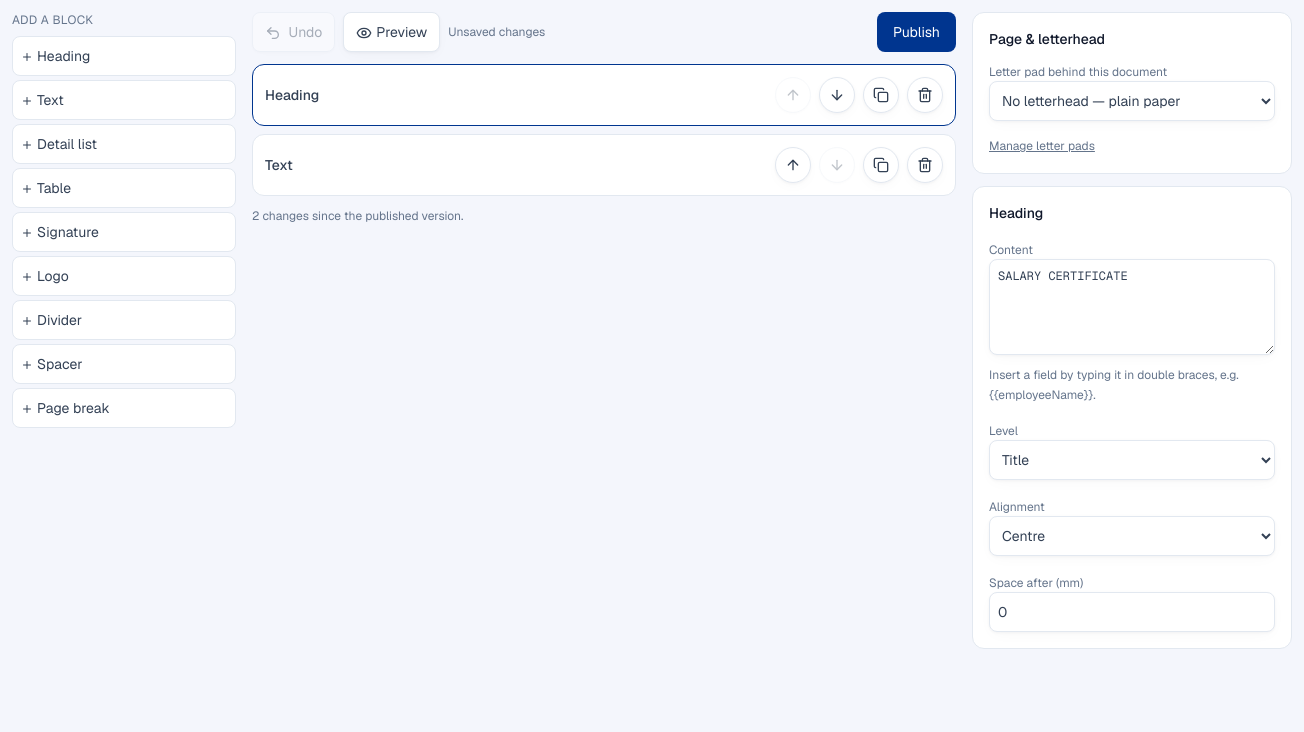
Test: TemplateBuilder › surfaces a save conflict rather than losing the edit
Click the button "Detail list" at point(124, 144), box [12,124,236,164]
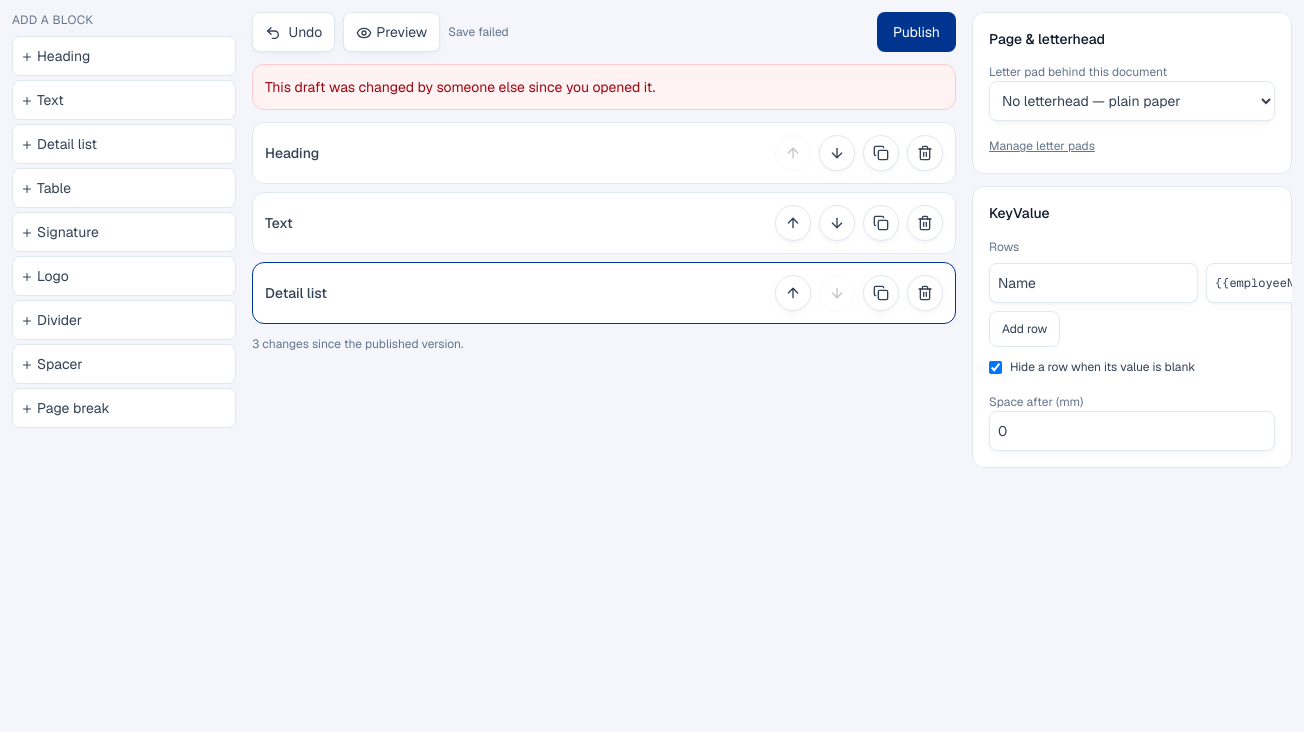
Check: the message shows "changed by someone else", box [265,78,655,96]
Check: the text "Detail list" is shown, box [265,284,327,302]
